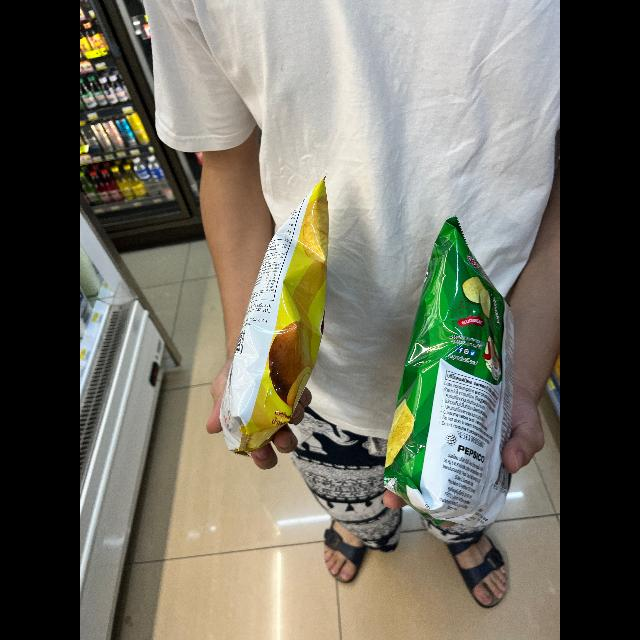snack_bag: (378, 200, 528, 538), (204, 178, 352, 456)
